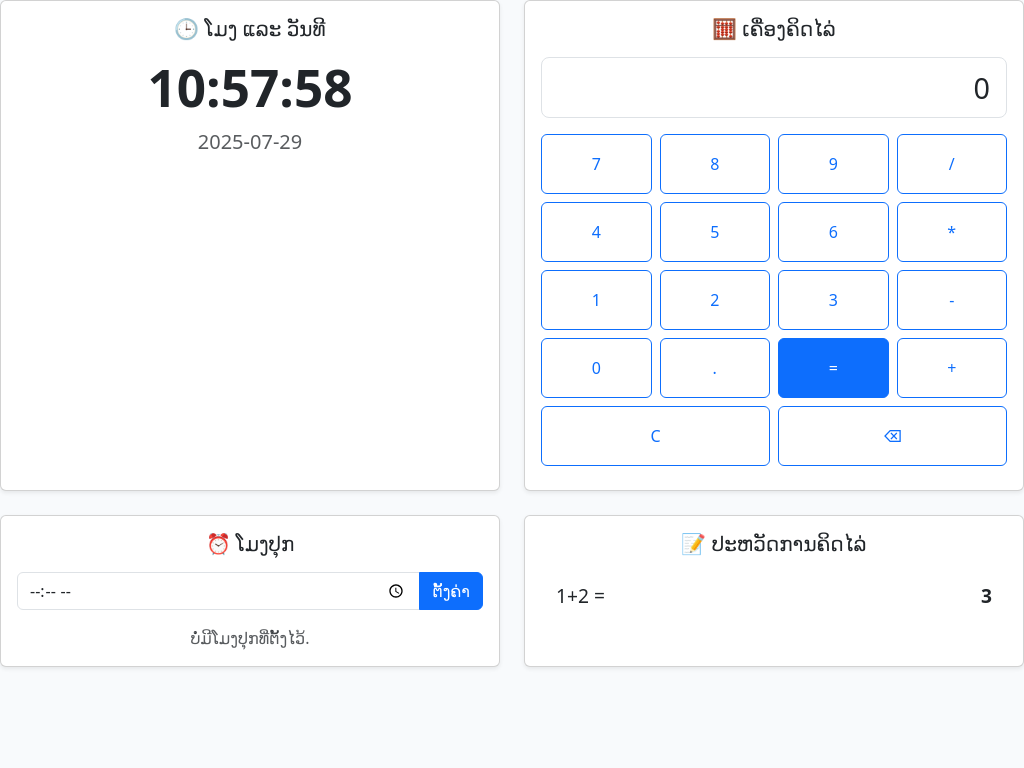
CalculatorClockAlarm › deletes the last input
Click the button with test id "btn-1". click: click(596, 300)
box: [541,270,652,330]
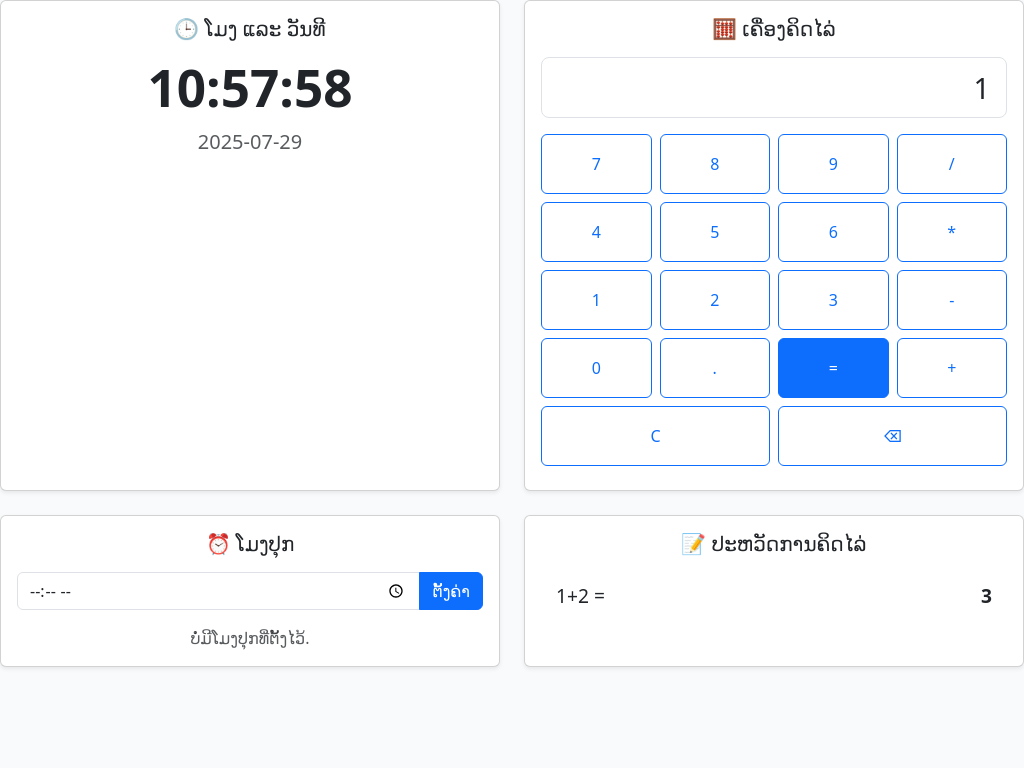
Click the button with test id "btn-+". click: click(952, 368)
box: [896,338,1007,398]
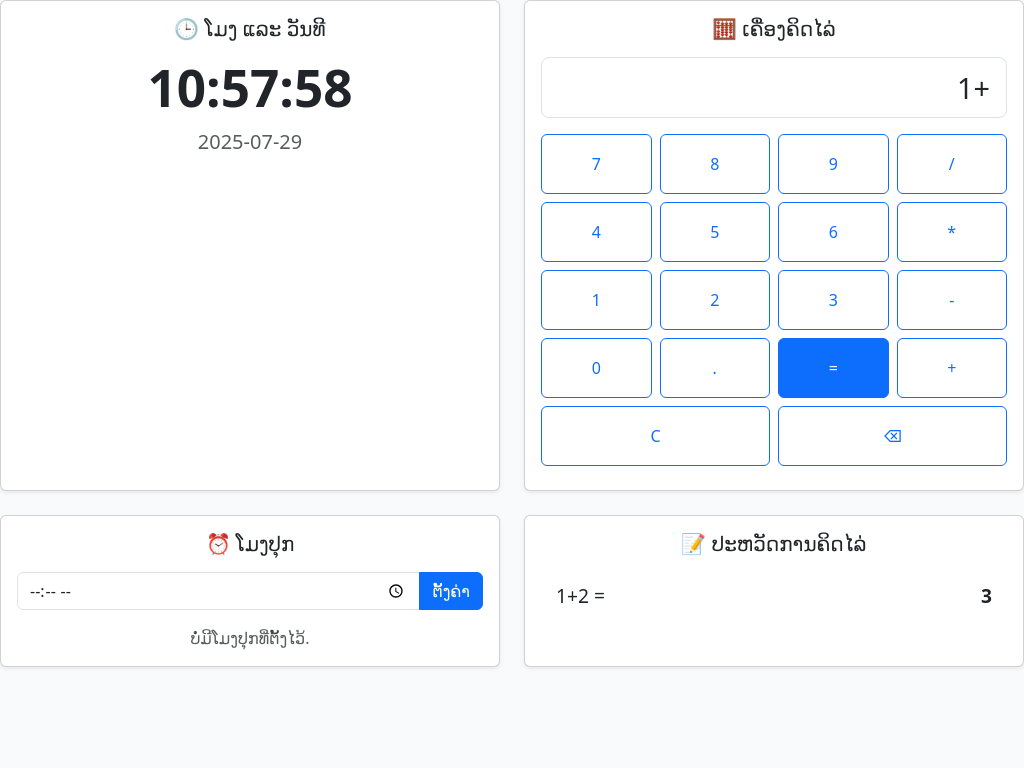
Click the button with test id "btn-2". click: click(715, 300)
box: [660,270,770,330]
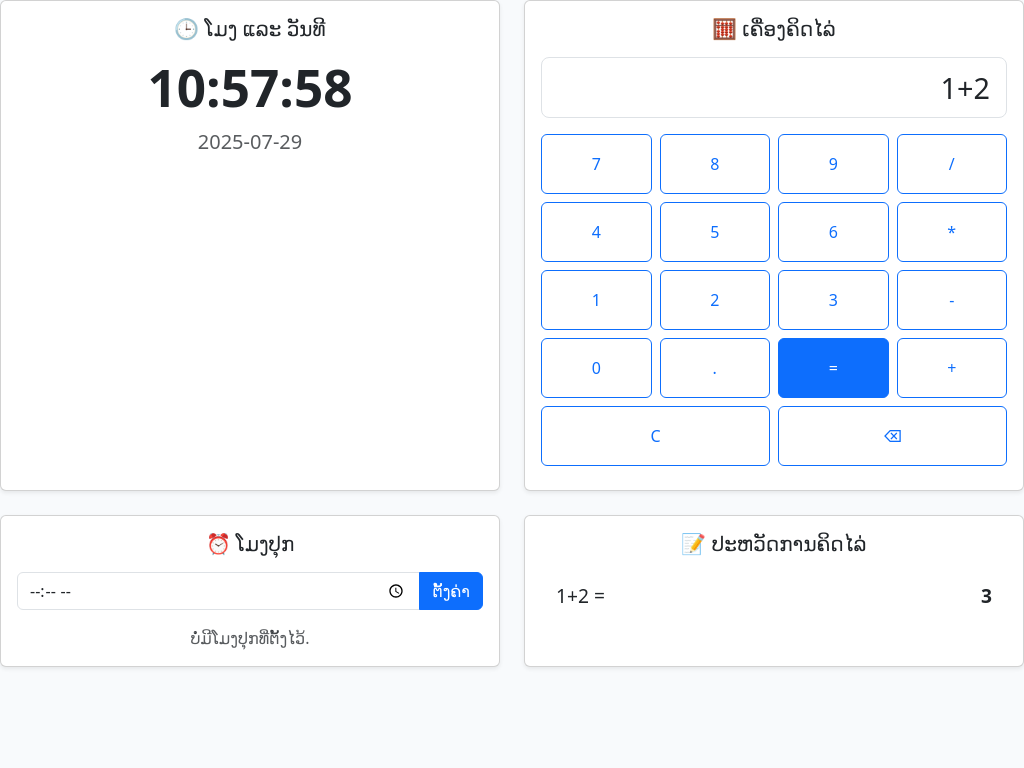
Click the button with test id "btn-⌫". click: click(892, 436)
box: [778,406,1007,466]
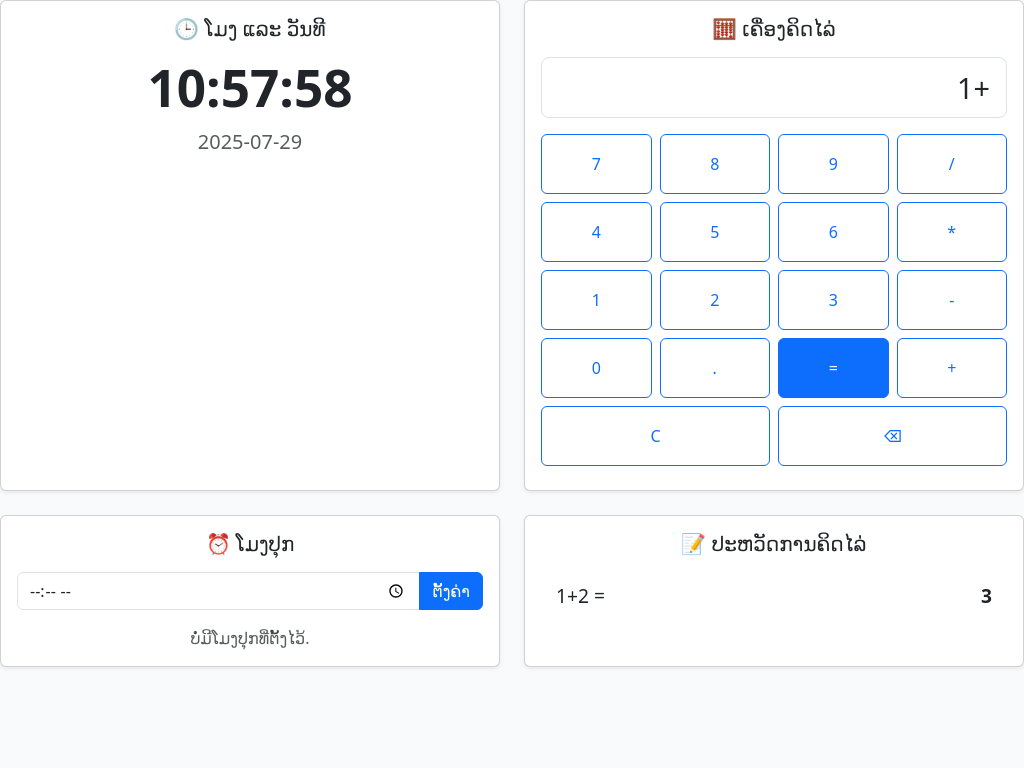
Check: the text with test id "calc-display" reads "1+", box [957,68,990,107]
